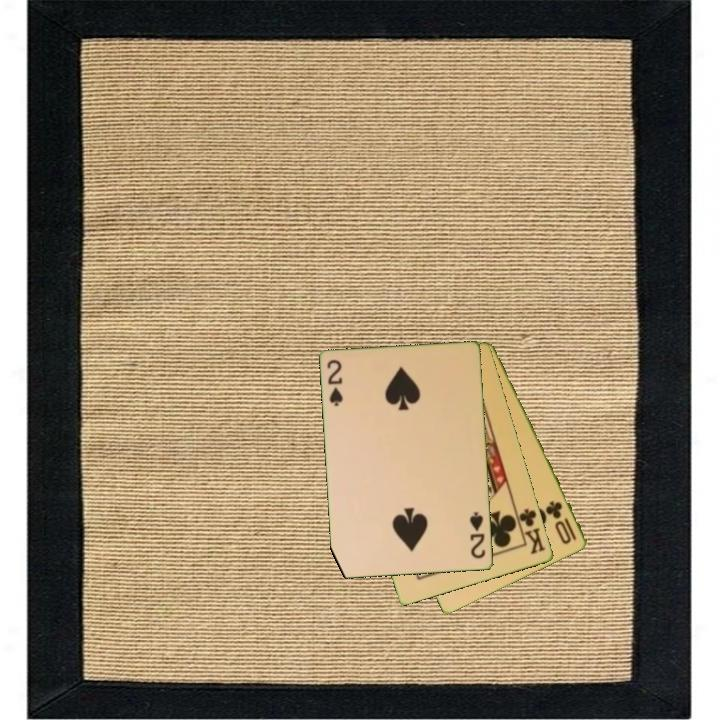10c: (543, 497, 580, 547)
2s: (466, 509, 488, 562), (324, 356, 346, 409)
Kc: (513, 505, 548, 557)
